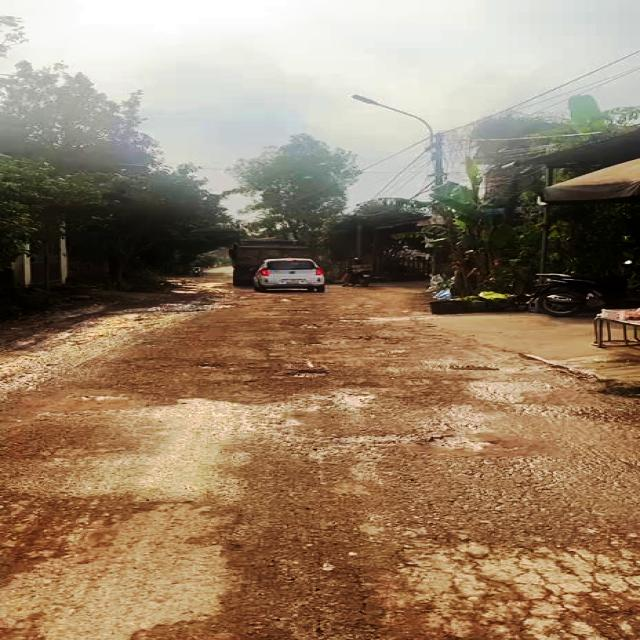pothole: (430, 428, 491, 451), (438, 360, 501, 374), (290, 370, 331, 380)
